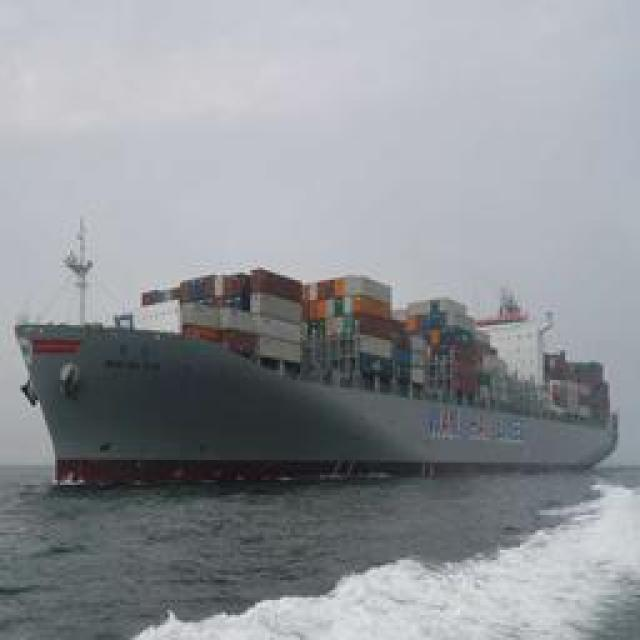ship2: (14, 235, 620, 490)
